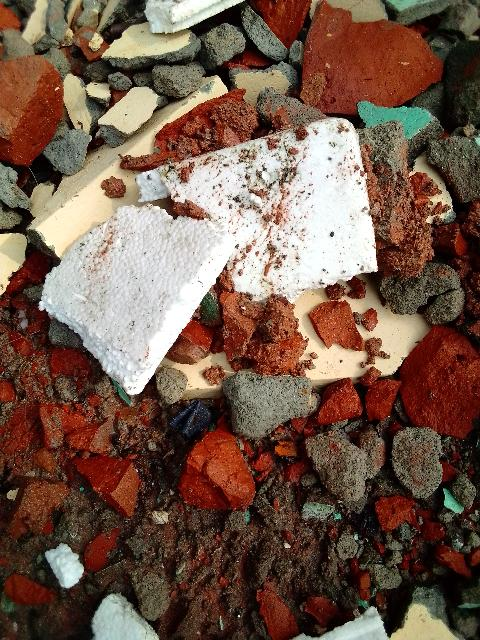cocksheet: (14, 89, 427, 423)
